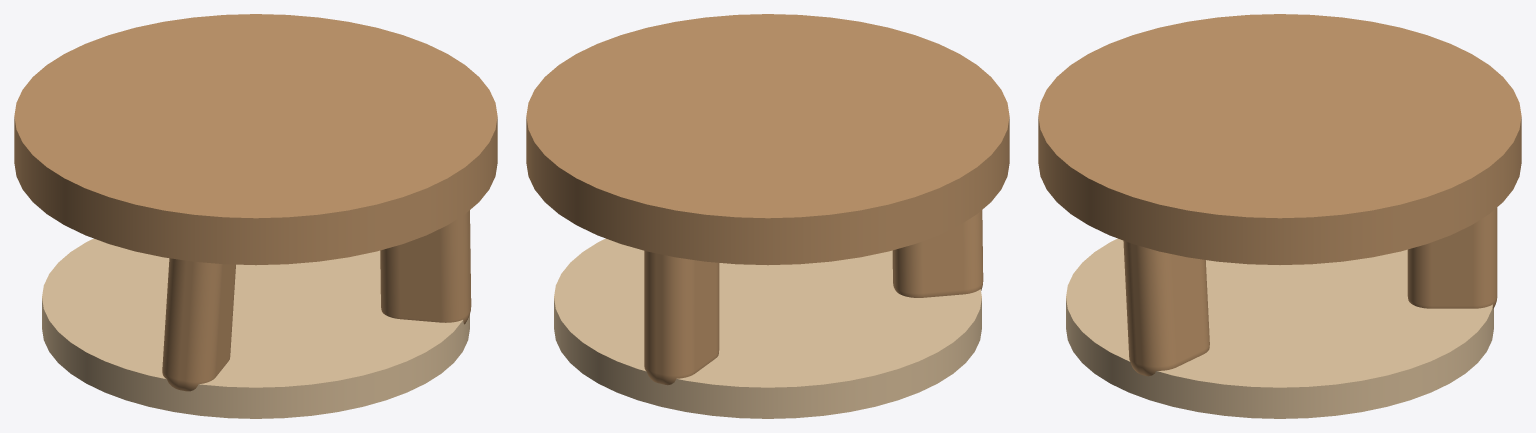
The model's file is ikea-borgeby.glb.
3 views of the same model, side by side, from view 1: azimuth 30°, elevation 25°; view 2: azimuth 150°, elevation 25°; view 3: azimuth 270°, elevation 25° (orthographic).
Visible parts, largest first — view 1: wood (×3), edge; view 2: wood (×3), edge; view 3: wood (×3), edge.
Part boxes in pixels (left/top/right/bottom): wood (×3): left=14, top=14, right=497, bottom=391; edge: left=42, top=238, right=469, bottom=418; wood (×3): left=526, top=14, right=1009, bottom=385; edge: left=554, top=238, right=981, bottom=418; wood (×3): left=1038, top=14, right=1521, bottom=376; edge: left=1066, top=238, right=1493, bottom=418.
Size of the model in its own units: 0.7 by 0.3395 by 0.7.
